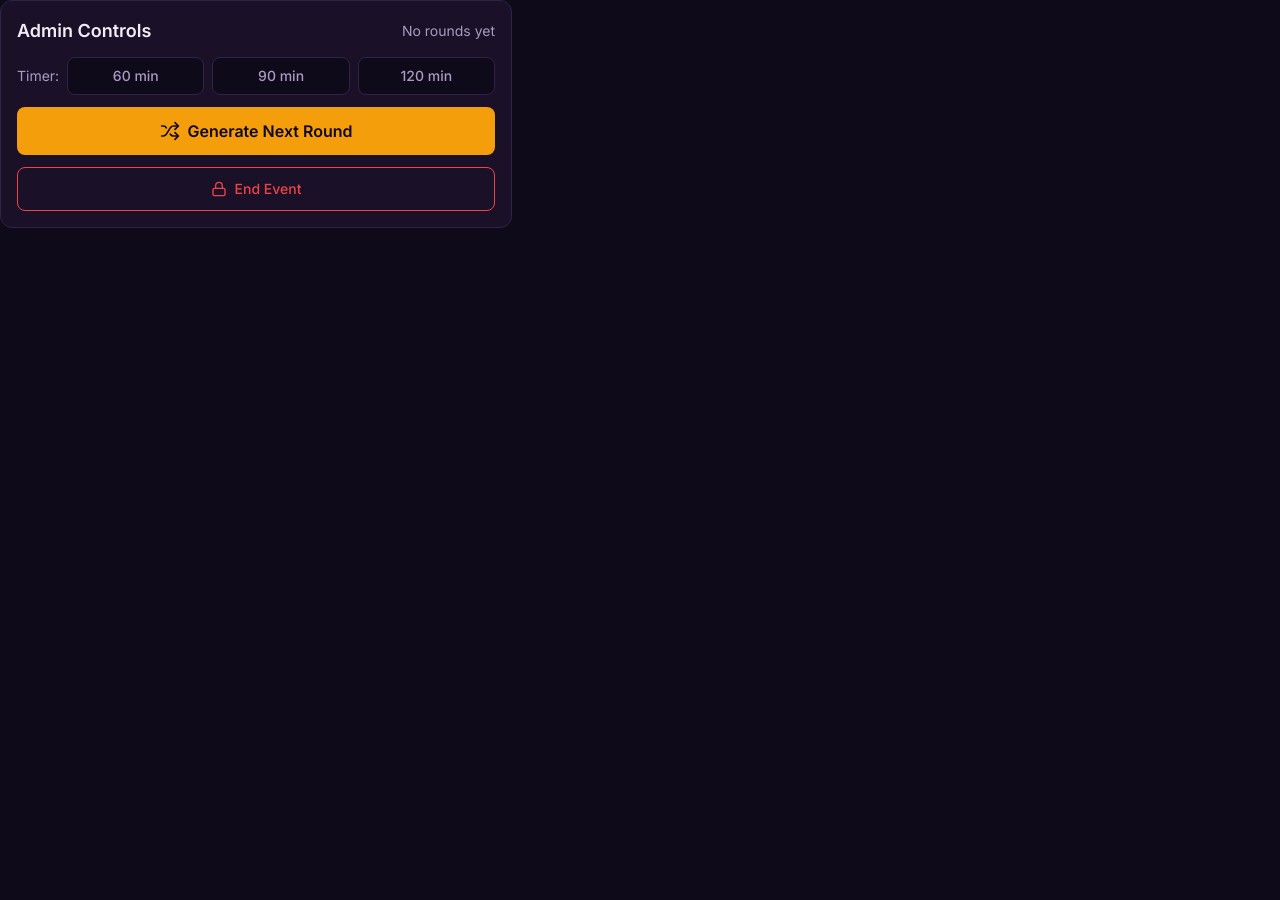
Scenario: AdminControls › opens ConfirmDialog when clicking End Event with valid passphrase
The width and height of the screenshot is (1280, 900).
Click the button with test id "end-event-btn" at (256, 189), box 17,167 -> 495,211
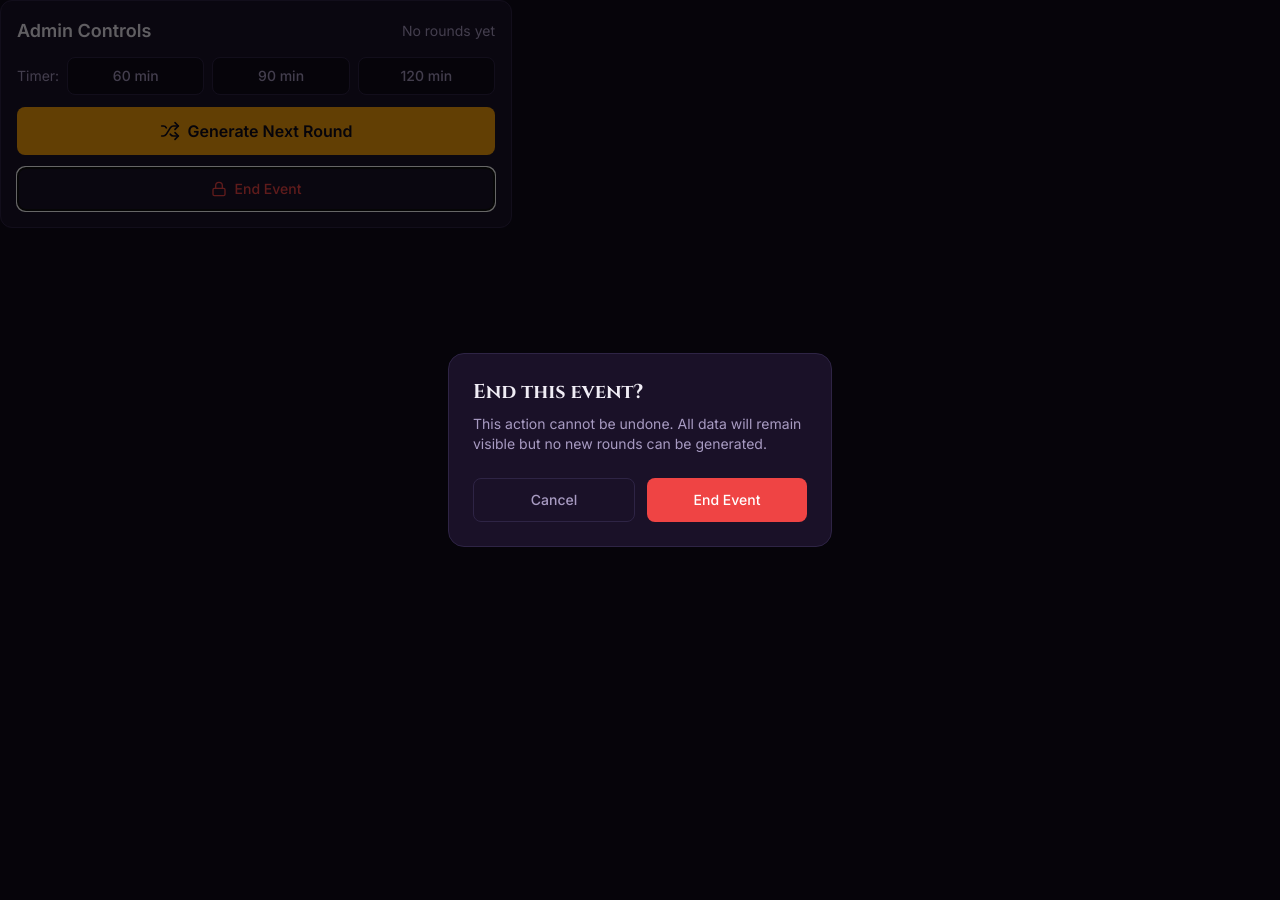
Check: the element with test id "confirm-dialog" is shown
